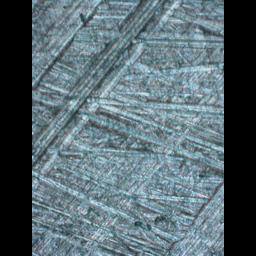d: (31, 0, 189, 189), (164, 176, 223, 255)
